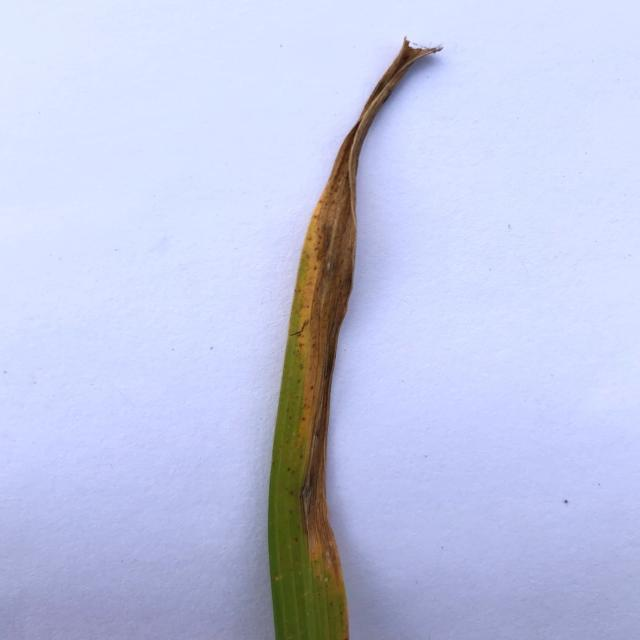Rice Tungro: (303, 266, 343, 584)
